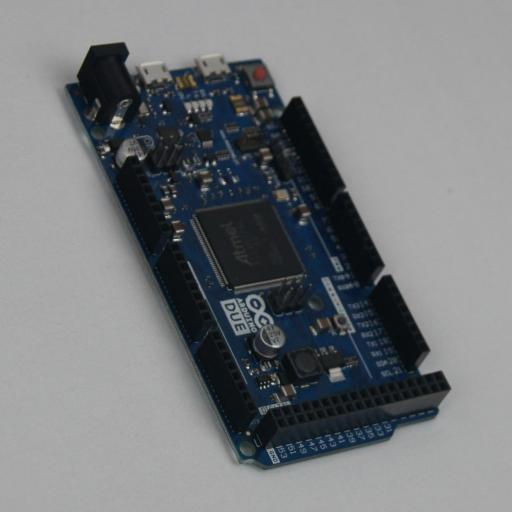Arduino Due: (64, 42, 451, 470)
